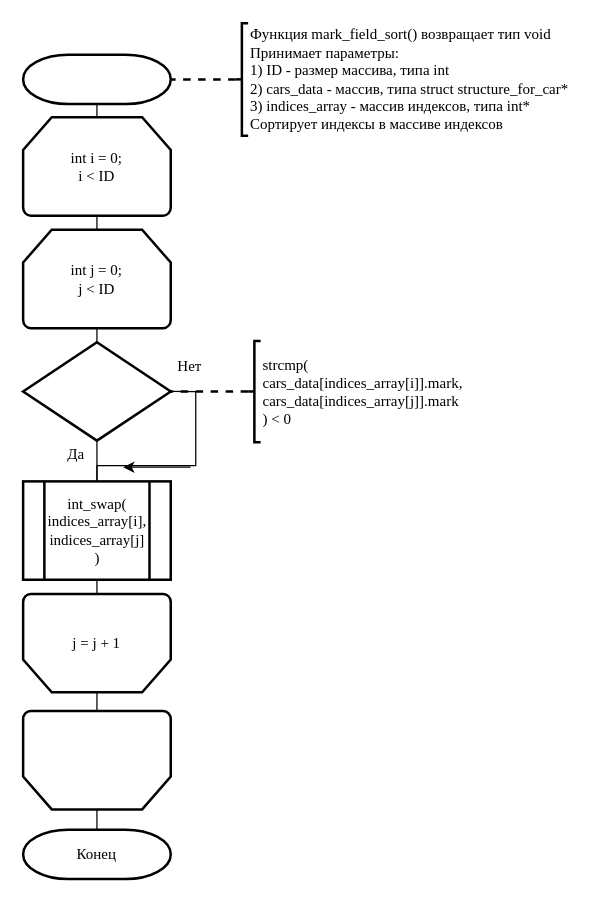
Some shapes in this 590 by 901 pixel diagram are drawn without their labels. Here are the shapes that lost their labels. From the top down, the centre of each, then its label:
point (96, 79): void mark _field_sort
point (96, 759): i = i + 1
